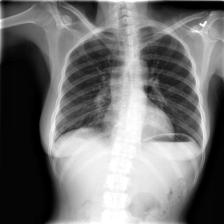normal: (49, 22, 207, 159)
